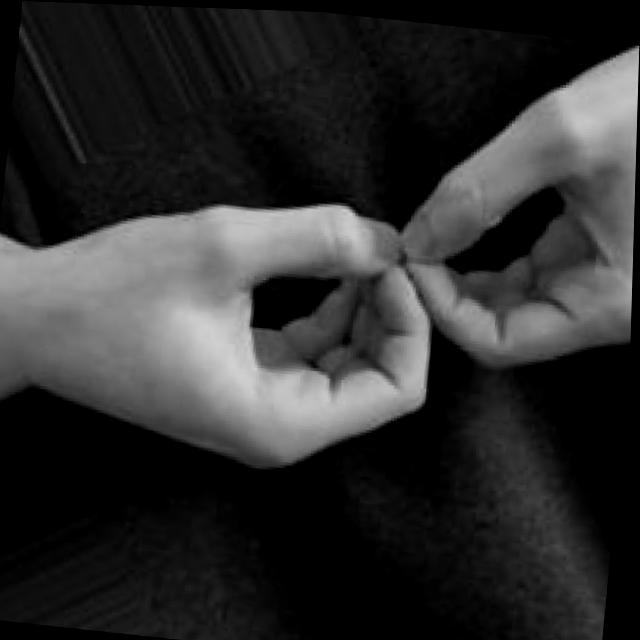B: (0, 0, 640, 507)
